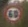limite 60: (2, 3, 22, 23)
